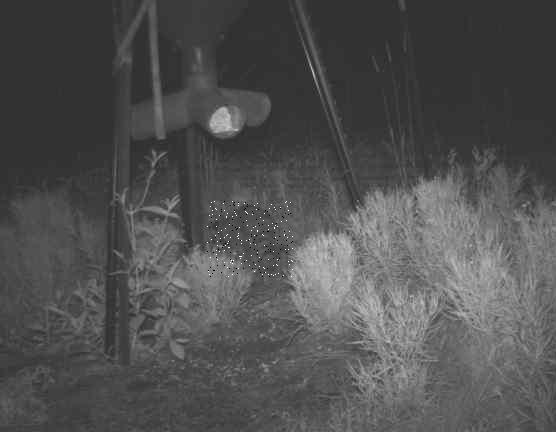Raccoon: (207, 202, 293, 278)
